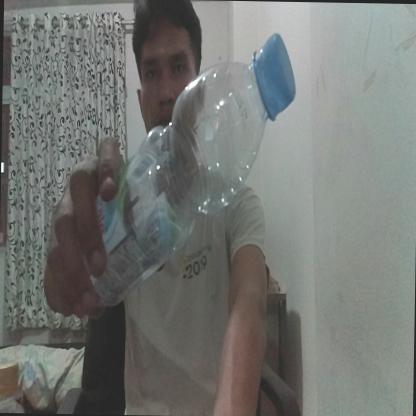plastic_bottles: (88, 30, 297, 311)
